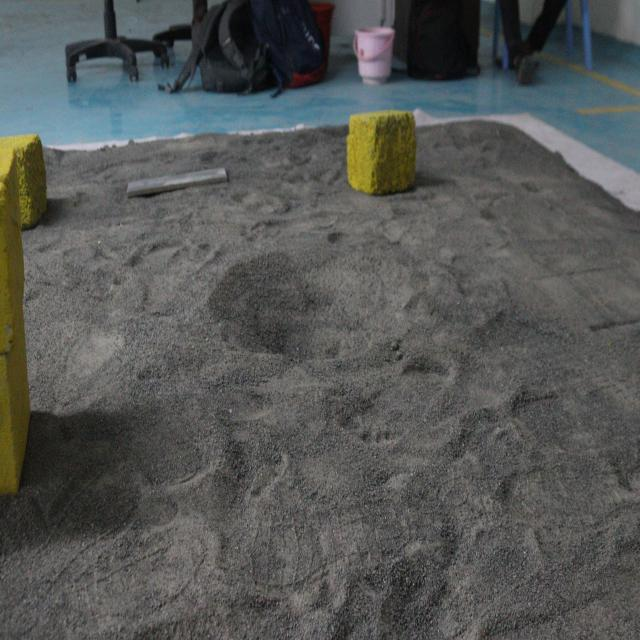box: (348, 101, 425, 202)
crater: (211, 237, 411, 380)
